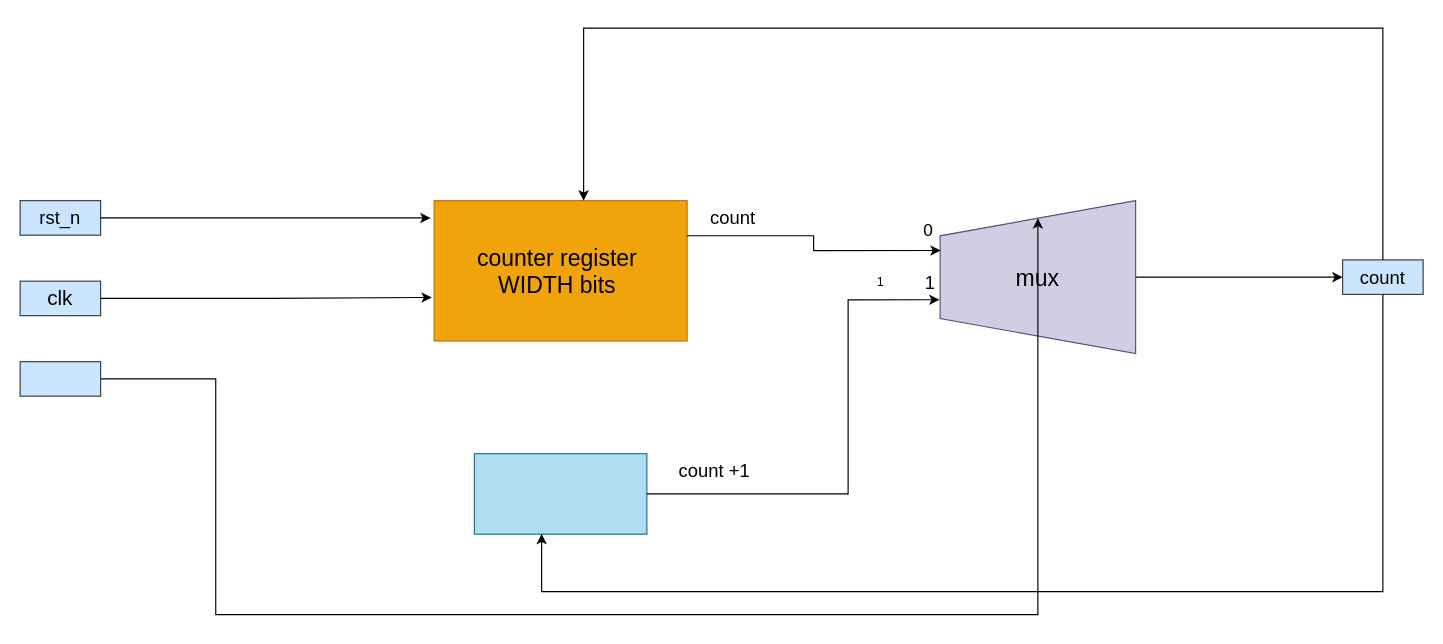
Image size: 1443x644. Some labels were removed from this diagram. Here are the shapes that lost their labels. From the top down, the centre of each, then its label:
pixel 60 378: en
pixel 560 493: Incrementer count +1
